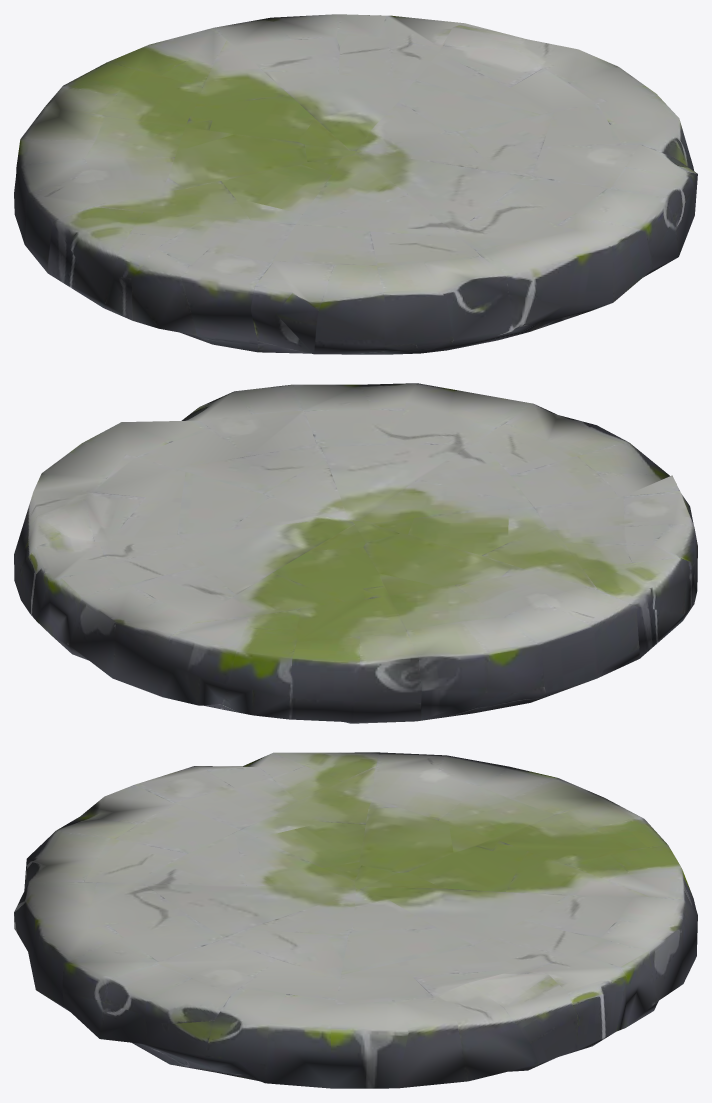
File: stepping-stone.glb
3 views of the same model, one above another, from view 1: azimuth 30°, elevation 25°; view 2: azimuth 150°, elevation 25°; view 3: azimuth 270°, elevation 25° (orthographic).
Bounding box in the file's own units: 1.88 × 0.246 × 1.9.
1 material, 1 textured.
